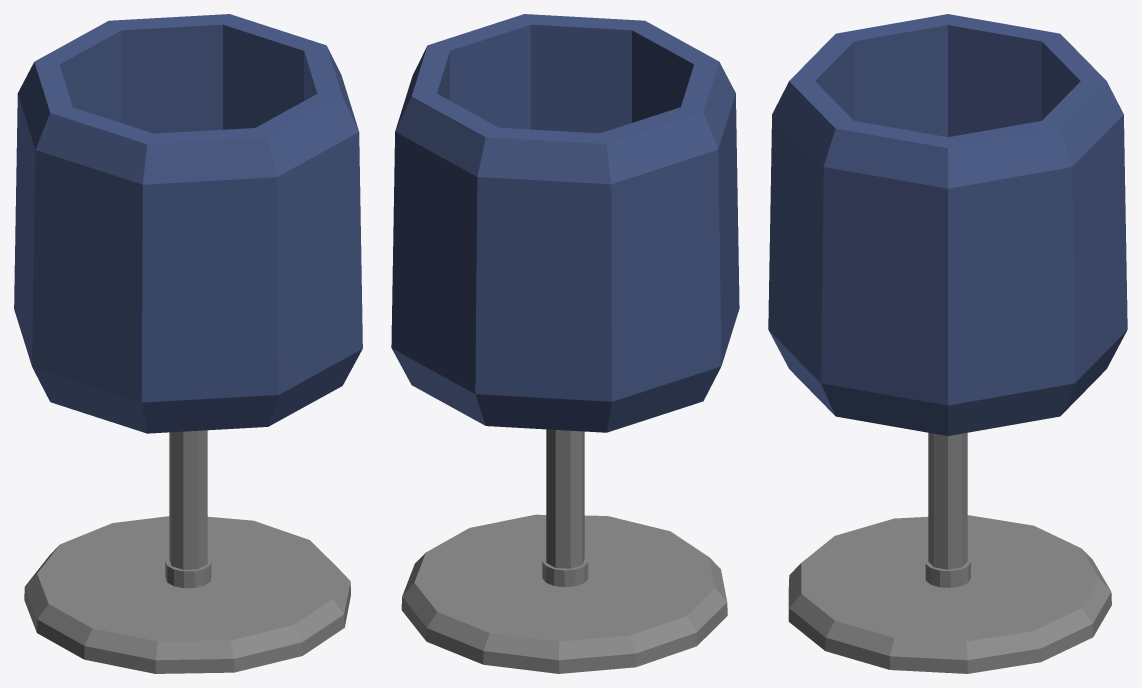
3 views of the same model, side by side, from view 1: azimuth 30°, elevation 25°; view 2: azimuth 150°, elevation 25°; view 3: azimuth 270°, elevation 25° (orthographic).
Visible parts, largest first — view 1: Lamp C; view 2: Lamp C; view 3: Lamp C.
Part boxes in pixels (x1,y1,x2,y2): Lamp C: [14, 14, 362, 673]; Lamp C: [391, 14, 739, 673]; Lamp C: [768, 14, 1127, 673].
Size of the model in its own units: 1.6 by 2.58 by 1.6.
